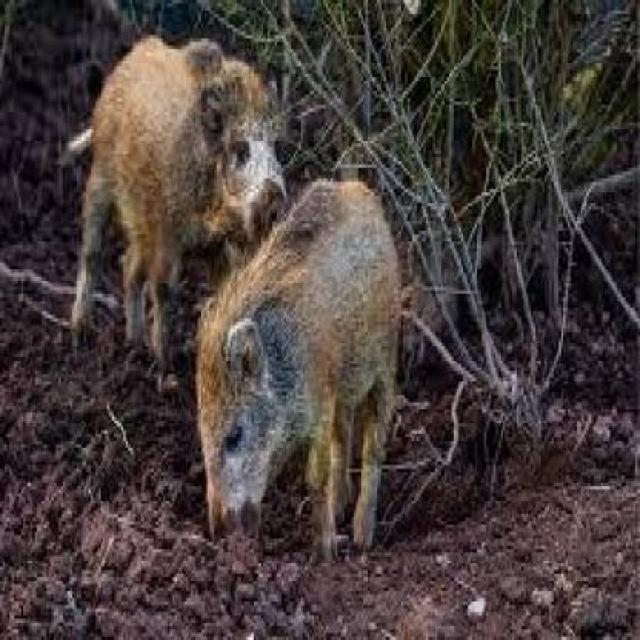wildboar: (189, 164, 411, 579), (58, 31, 293, 380)
